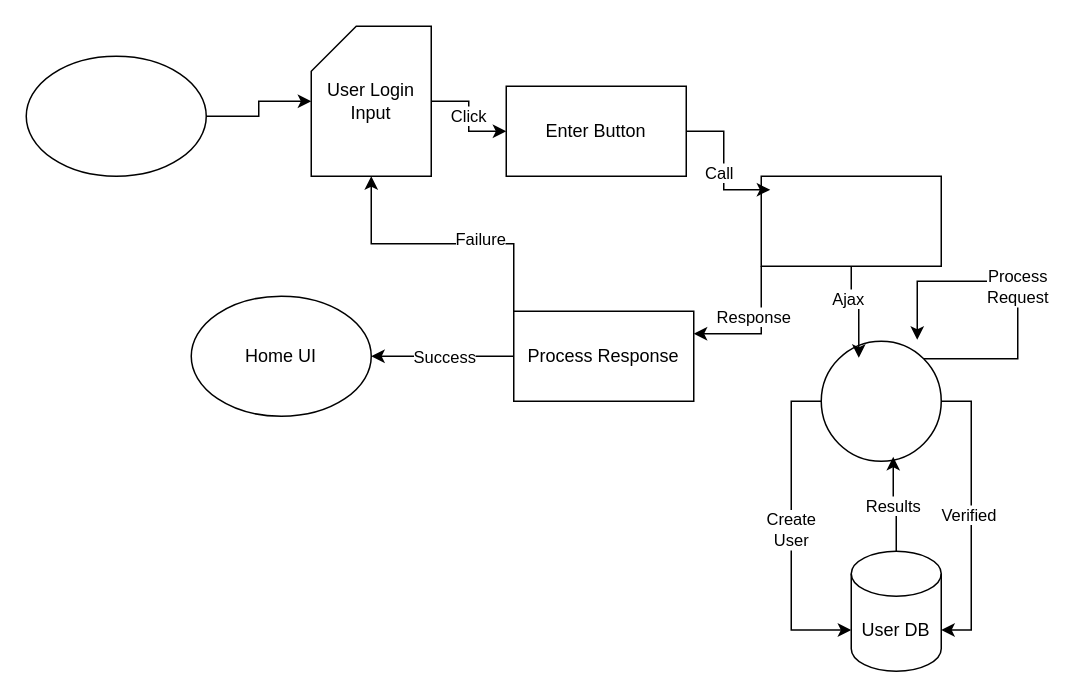
This 1074x698 diagram has some shape labels left out. The shapes that lost their labels are listed below. From the top down, each one's box as (x1, y1, x2, y2) in pixels, then its label:
(25, 55, 206, 176): Login In Page
(760, 175, 941, 266): Function
(820, 340, 941, 461): API
